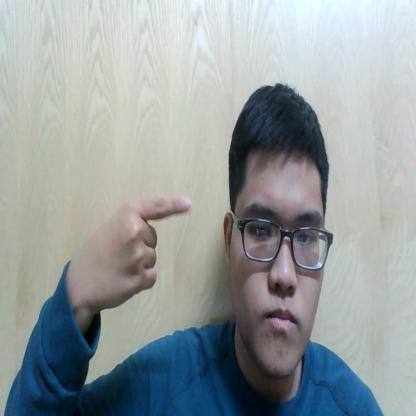left: (88, 192, 202, 314)
